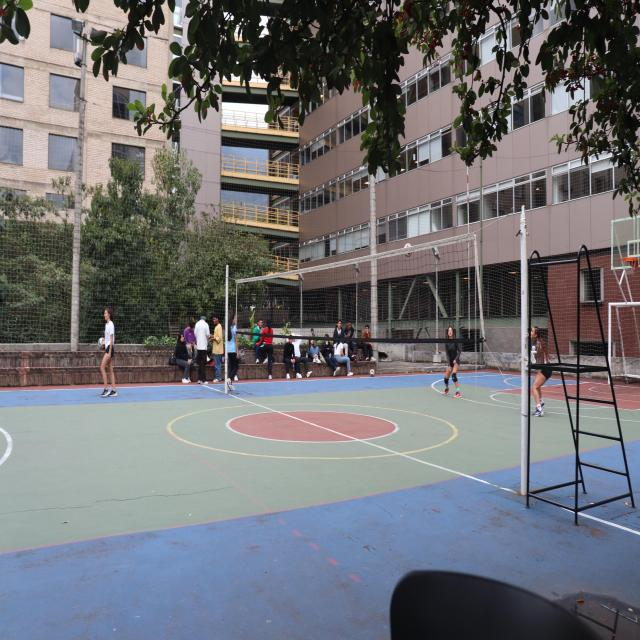volleyball: (98, 337, 105, 349), (369, 369, 375, 376)
